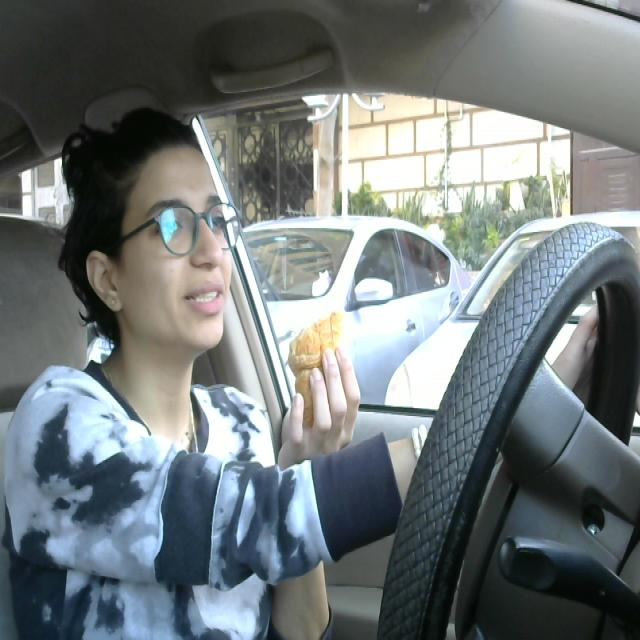eating: (276, 296, 355, 432)
